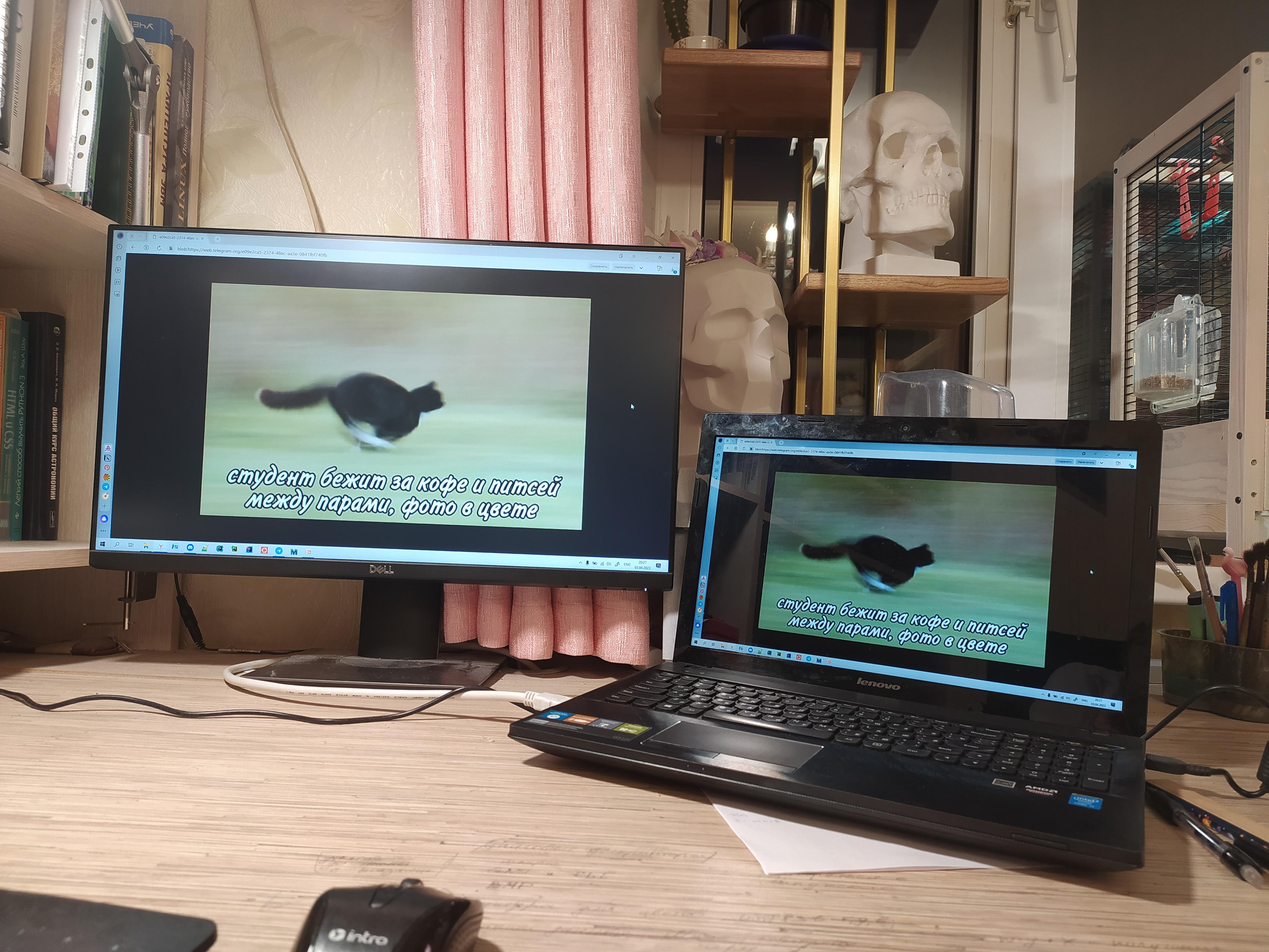monitor: (82, 213, 693, 606), (669, 406, 1171, 727)
